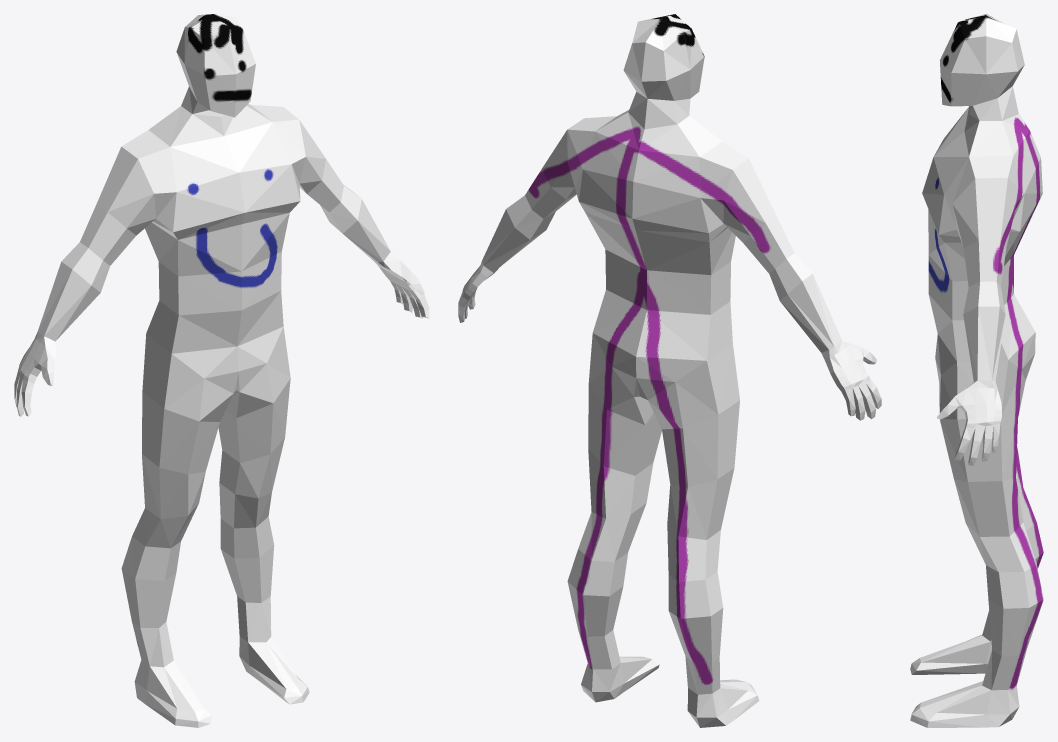
File: low_poly_male_base(2).glb
3 views of the same model, side by side, from view 1: azimuth 30°, elevation 25°; view 2: azimuth 150°, elevation 25°; view 3: azimuth 270°, elevation 25° (orthographic). The views are drawn at different scales.
Parts seen in each view (by area): view 1: node_id8; view 2: node_id8; view 3: node_id8.
Part boxes in pixels (box(x1,y1,x2,y2)): node_id8: box(14, 14, 429, 727); node_id8: box(458, 14, 881, 727); node_id8: box(910, 14, 1043, 727).
Size of the model in its own units: 0.2073 by 0.3285 by 0.0586.
1 material, 1 textured.
